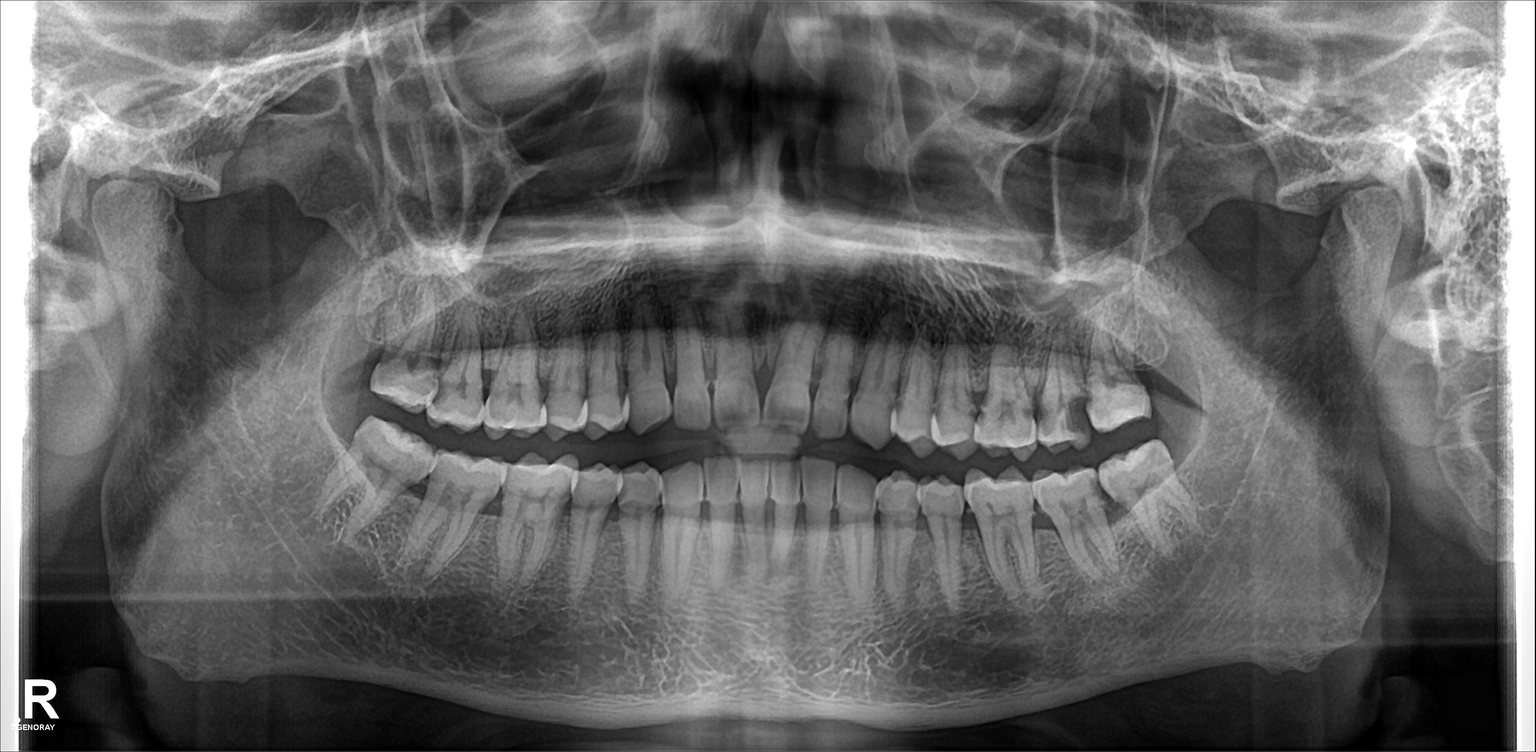Dental Caries: (1058, 396, 1086, 435)
Impacted Third Molar: (1114, 452, 1217, 551)
Missing Tooth: (339, 320, 378, 402)
